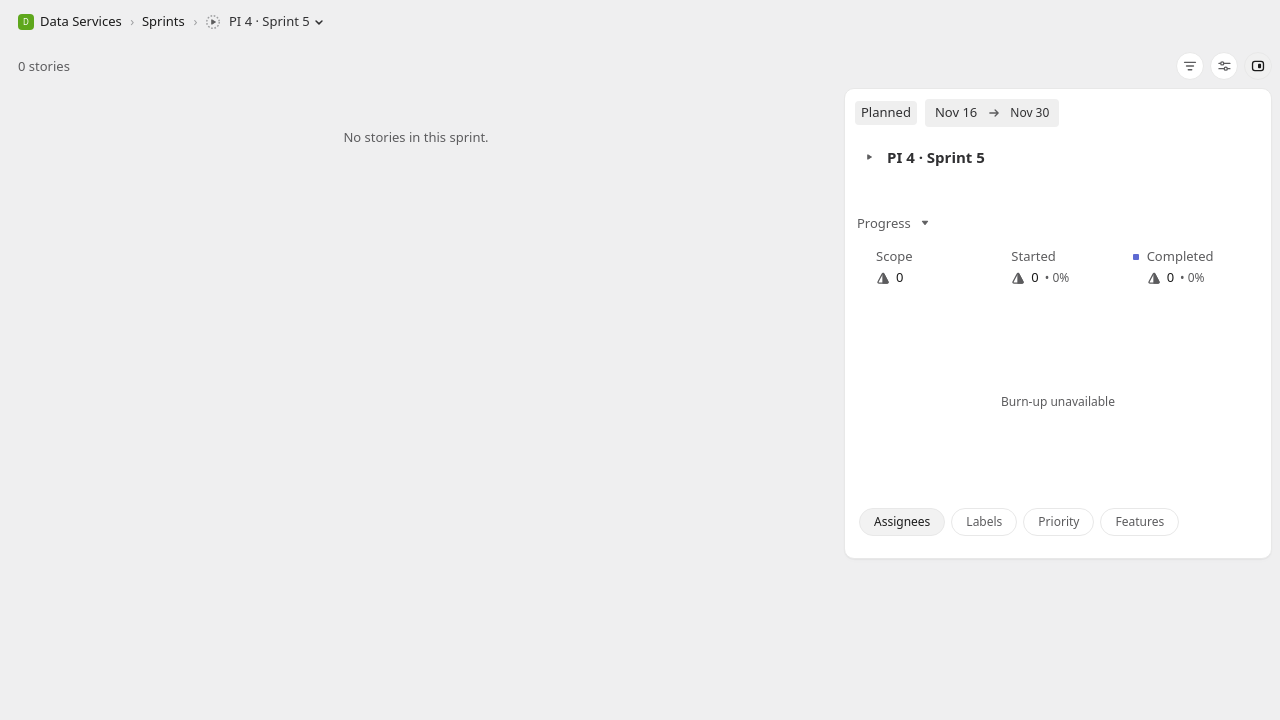
Scenario: from a cycle two ahead, the switcher offers Previous sprint (upcoming) and Go to current sprint
What coordinates should you click on to do the following:
click the button with aria-label "Open sprint"
I would click on:
 (264, 22)
Its box is [201,10,327,34].
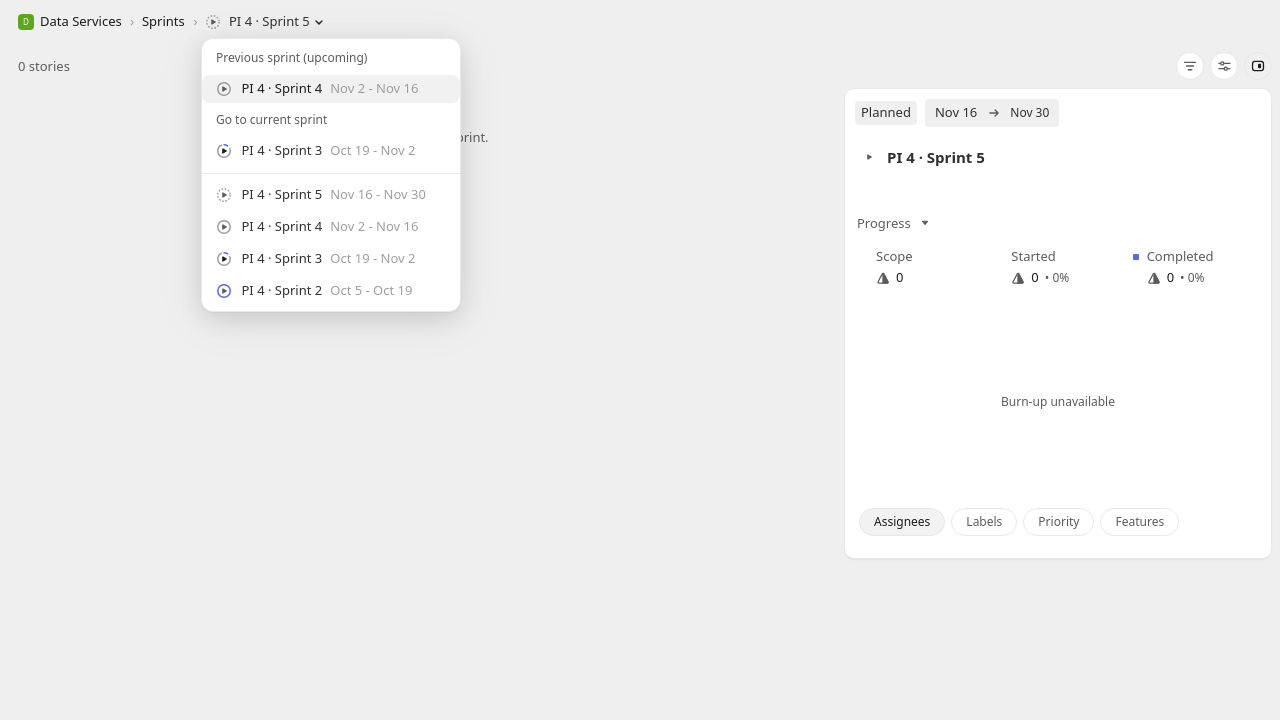
Now the text "Previous sprint (upcoming)" is shown, box [216,49,367,66]
Now the text "Go to current sprint" is shown, box [216,111,327,128]
